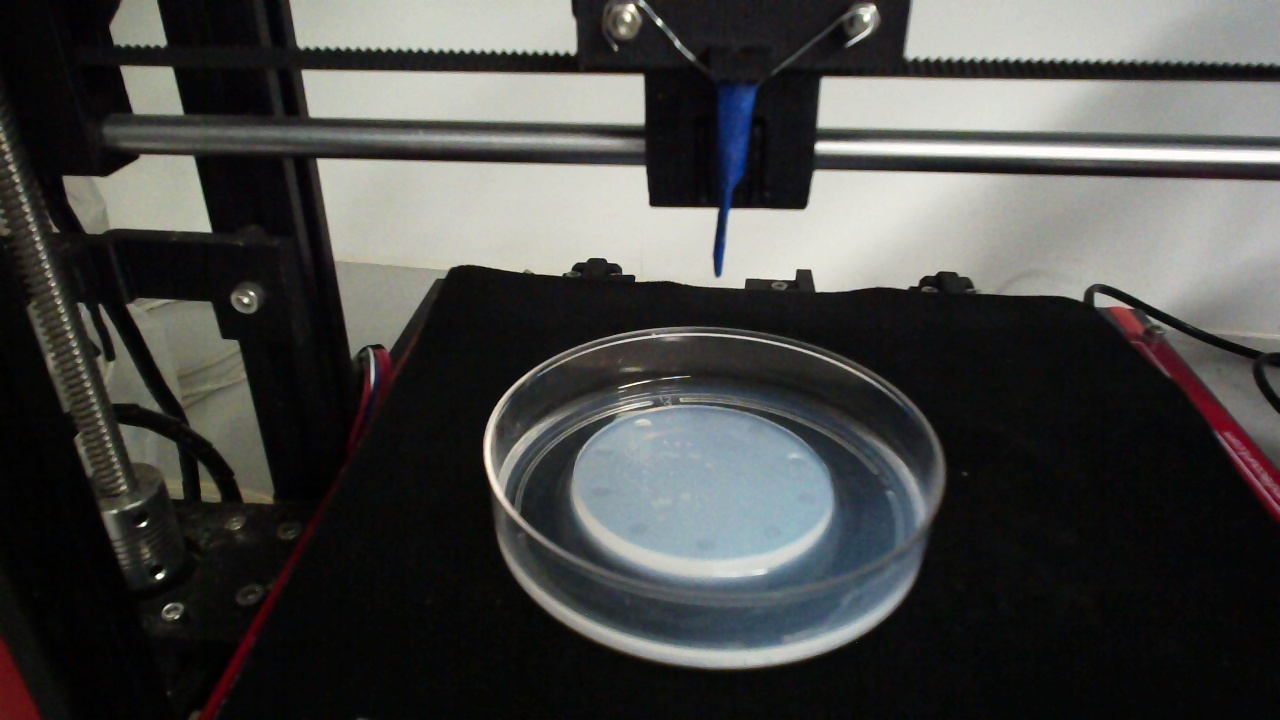groove: (761, 523, 785, 543), (794, 490, 816, 507), (626, 520, 649, 536), (586, 485, 610, 500), (693, 536, 715, 552), (594, 446, 615, 460), (785, 454, 807, 467), (688, 411, 709, 424), (633, 417, 652, 431), (745, 423, 765, 435)
needle: (713, 86, 756, 278)
